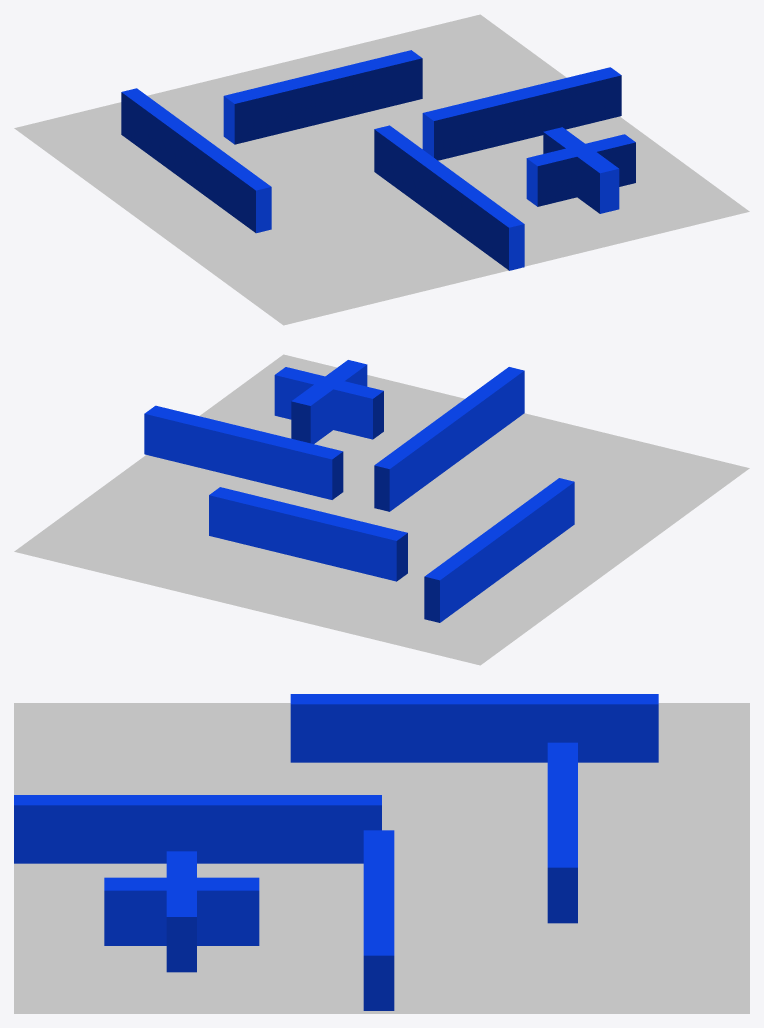
File: Stage1_Combined.fbx
The picture shows the model from 3 angles, top to bottom: view 1: azimuth 30°, elevation 25°; view 2: azimuth 150°, elevation 25°; view 3: azimuth 270°, elevation 25°; orthographic projection. The views are drawn at different scales.
Parts seen in each view (by area): view 1: Stage1; view 2: Stage1; view 3: Stage1.
Boxes of the visible parts, x1,y1,x2,y2 form: Stage1: (14, 14, 749, 325); Stage1: (14, 354, 749, 665); Stage1: (14, 694, 749, 1013).
Size of the model in its own units: 3000 by 266 by 3003.
